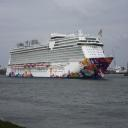cruises: (7, 30, 116, 83)
